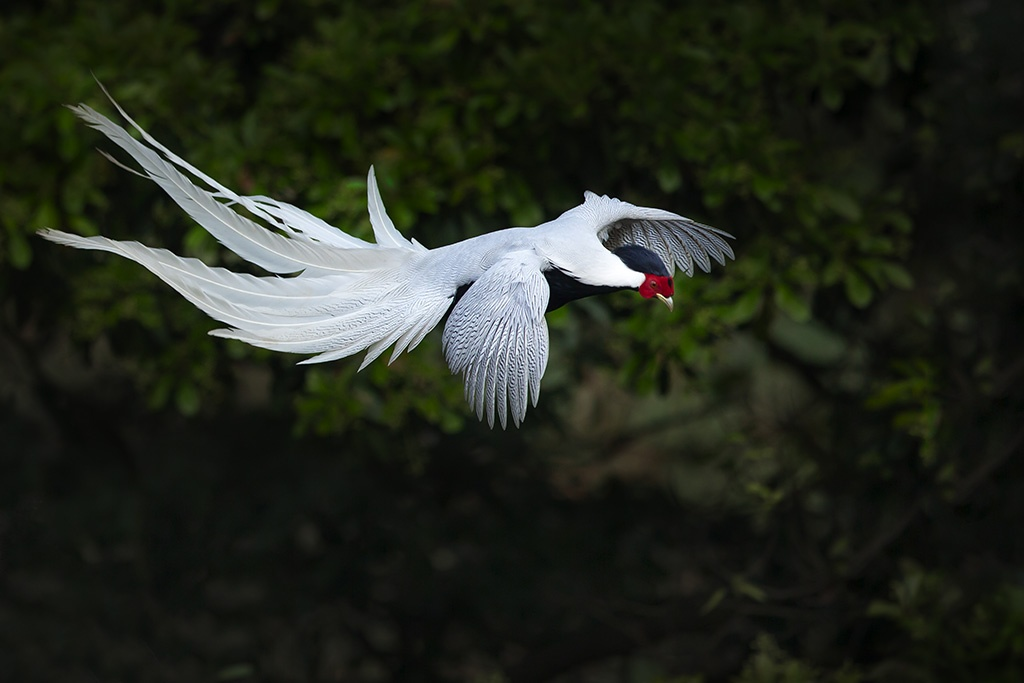bird: (76, 85, 724, 423)
